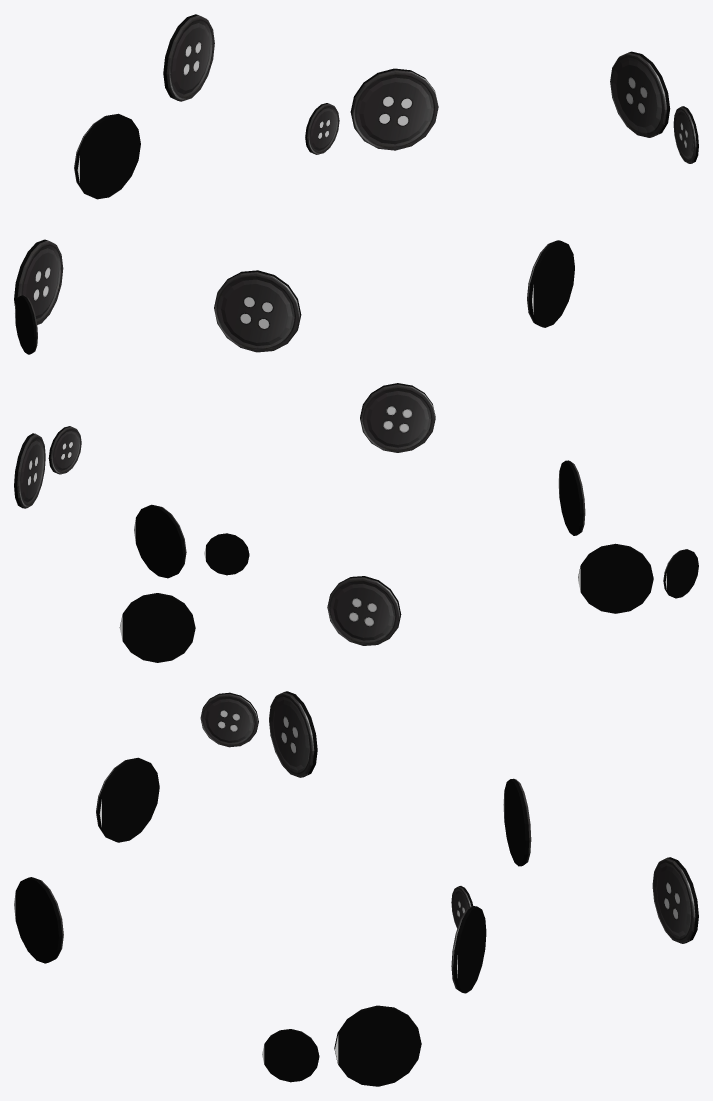
File: Botones Race.fbx
3 renders of one model, top to bottom at view 1: azimuth 30°, elevation 25°; view 2: azimuth 150°, elevation 25°; view 3: azimuth 270°, elevation 25°, orthographic. The views are drawn at different scales.
Parts seen in each view (by area): view 1: botones; view 2: botones; view 3: botones.
Part boxes in pixels (x1=…): botones: x1=14, y1=14, x2=698, y2=354; botones: x1=14, y1=383, x2=698, y2=662; botones: x1=14, y1=691, x2=698, y2=1086.
Bounding box in the file's own units: 23696 × 2591 × 20189.
Materials: 2 (1 with a texture image).
